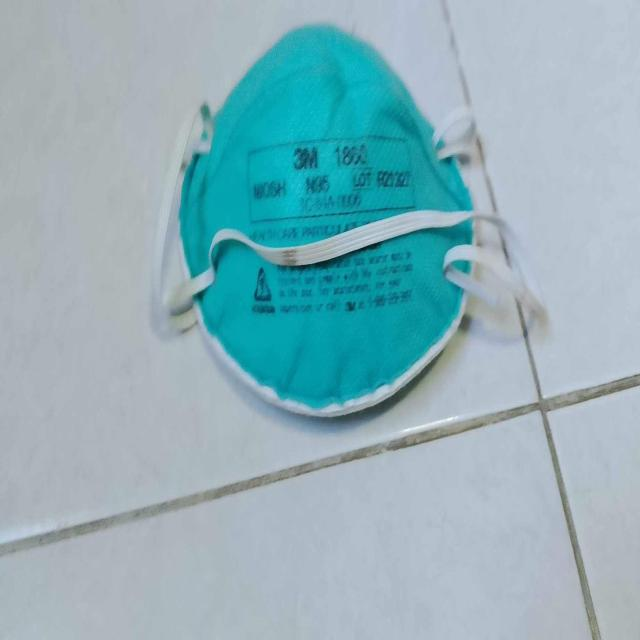General: (175, 22, 478, 420)
